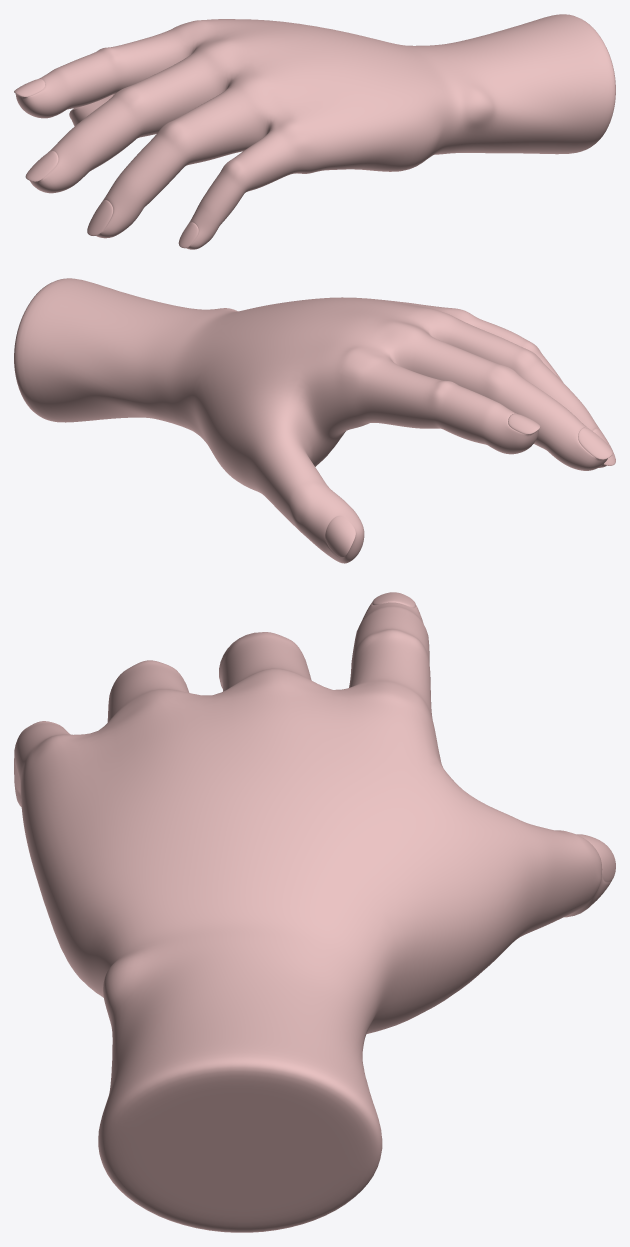
Rendered from left-hand (1).fbx.
The picture shows the model from 3 angles, top to bottom: view 1: azimuth 30°, elevation 25°; view 2: azimuth 150°, elevation 25°; view 3: azimuth 270°, elevation 25°; orthographic projection. The views are drawn at different scales.
Visible parts, largest first — view 1: left_hand__1_; view 2: left_hand__1_; view 3: left_hand__1_.
Part boxes in pixels (x1=…): left_hand__1_: x1=14, y1=14, x2=615, y2=249; left_hand__1_: x1=14, y1=278, x2=615, y2=563; left_hand__1_: x1=14, y1=592, x2=615, y2=1232.
Bounding box in the file's own units: 81.8 × 24.29 × 45.56.
